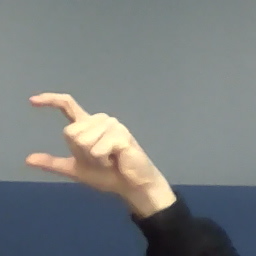C: (25, 91, 148, 198)
